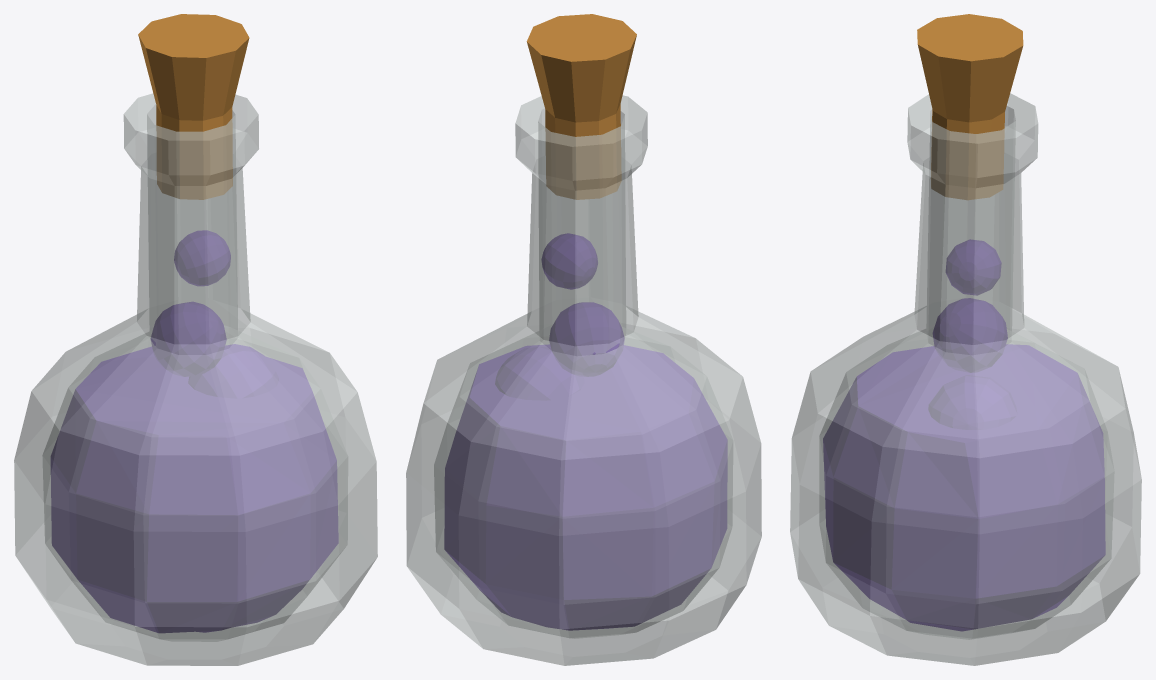
Rendered from Potion.fbx.
3 renders of one model, left to right at view 1: azimuth 30°, elevation 25°; view 2: azimuth 150°, elevation 25°; view 3: azimuth 270°, elevation 25°, orthographic.
Visible parts, largest first — view 1: model:mesh2068853349; view 2: model:mesh2068853349; view 3: model:mesh2068853349.
Part boxes in pixels (x1,y1,x2,y2): model:mesh2068853349: [14, 14, 377, 665]; model:mesh2068853349: [406, 14, 761, 665]; model:mesh2068853349: [790, 14, 1141, 665].
Bounding box in the file's own units: 0.1897 × 0.3408 × 0.1853.
